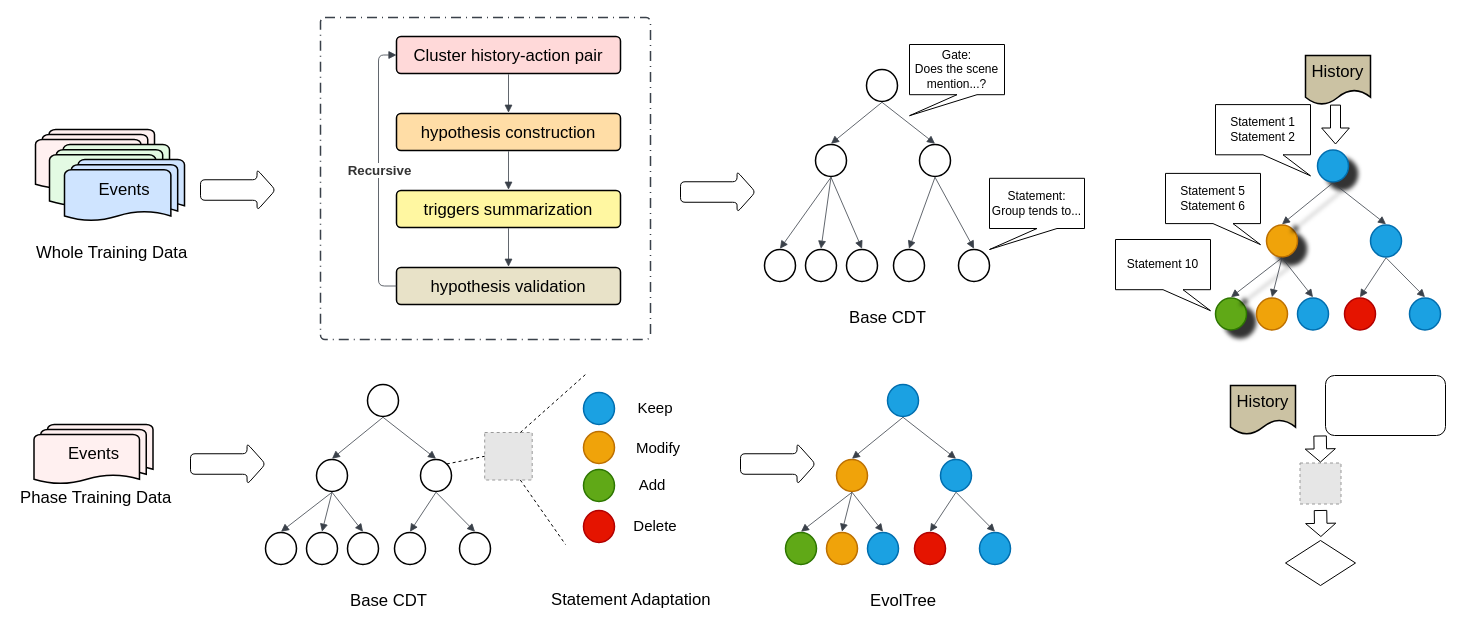
Some shapes in this 1463 by 633 pixel diagram are drawn without their labels. Grey dashed boxes stand in for pictures. Each missing label, with the centre of its shape:
"Action" goes at pixel 1320 563.
"Collected Statements" goes at pixel 1385 405.
